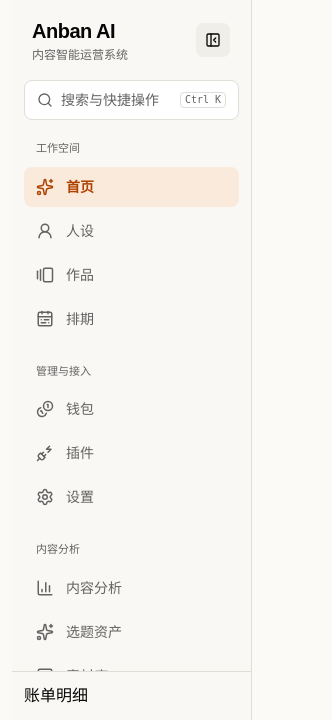
it: Sidebar › keeps expanded utility links reachable when collapsed
The width and height of the screenshot is (332, 720).
Click the button named "收起侧边栏". click: point(213, 40)
box: [195, 22, 231, 58]
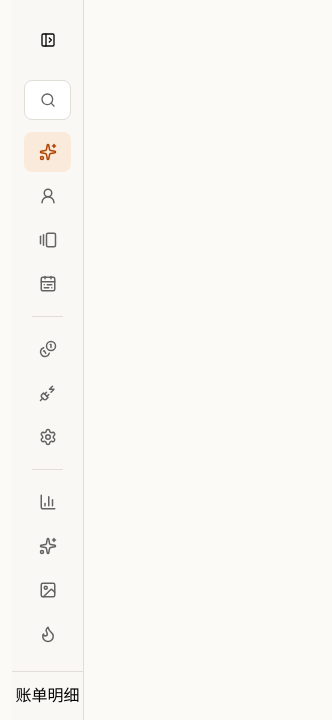
Check: the link named "插件" is shown, box [38, 384, 56, 402]
Check: the link named "设置" is shown, box [38, 428, 56, 446]
